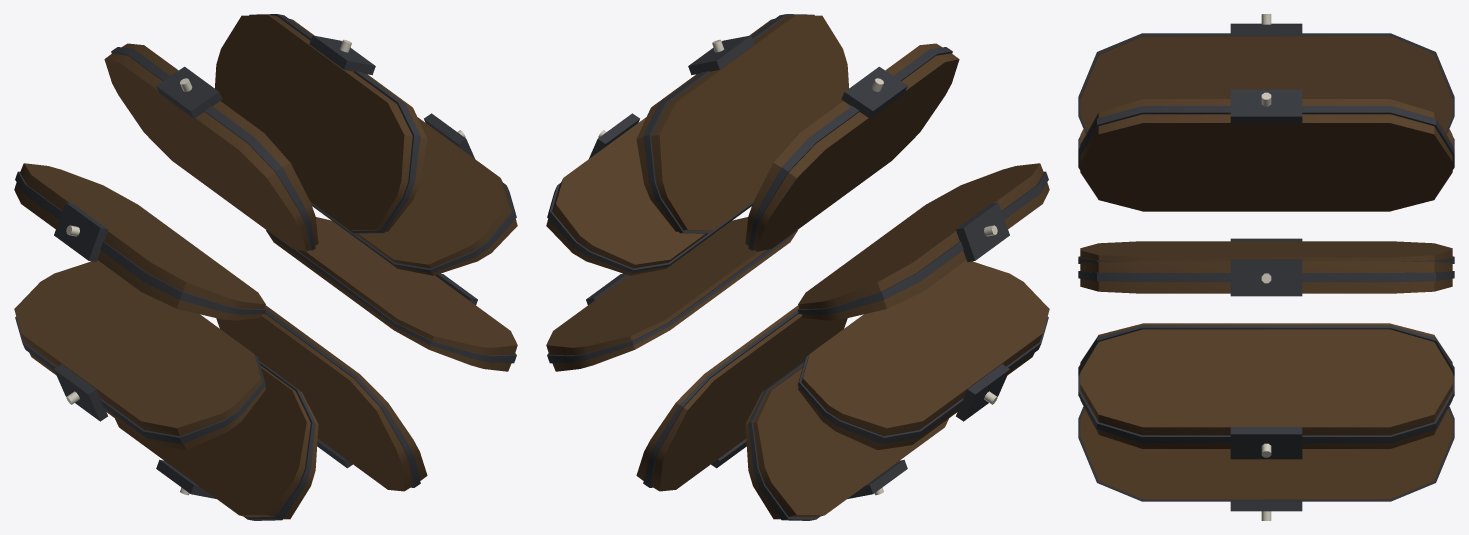
Rendered from er1_confinement.obj.
3 views of the same model, side by side, from view 1: azimuth 30°, elevation 25°; view 2: azimuth 150°, elevation 25°; view 3: azimuth 270°, elevation 25° (orthographic). The views are drawn at different scales.
Parts seen in each view (by area): view 1: er1_confinement; view 2: er1_confinement; view 3: er1_confinement.
Boxes of the visible parts, bbox=[...] form: er1_confinement: bbox=[14, 14, 517, 520]; er1_confinement: bbox=[546, 14, 1049, 520]; er1_confinement: bbox=[1078, 14, 1454, 520].
Size of the model in its own units: 2.16 by 2.16 by 1.72.
